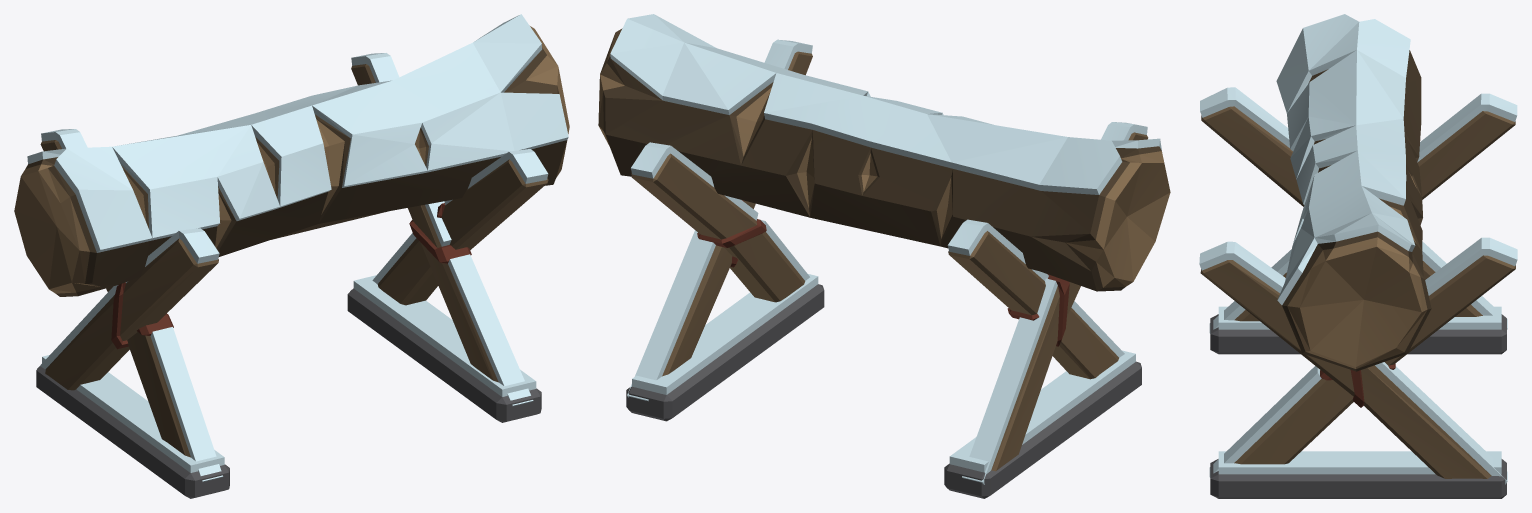
Rendered from Tronco.glb.
The picture shows the model from 3 angles, left to right: view 1: azimuth 30°, elevation 25°; view 2: azimuth 150°, elevation 25°; view 3: azimuth 270°, elevation 25°; orthographic projection. The views are drawn at different scales.
Parts seen in each view (by area): view 1: SM_Prop_Log_01_Snow; view 2: SM_Prop_Log_01_Snow; view 3: SM_Prop_Log_01_Snow.
Part boxes in pixels (box(x1,y1,x2,y2)): SM_Prop_Log_01_Snow: box(14, 14, 569, 498); SM_Prop_Log_01_Snow: box(598, 14, 1170, 498); SM_Prop_Log_01_Snow: box(1199, 14, 1517, 498).
Size of the model in its own units: 2.13 by 1.29 by 1.22.
Materials: 1 (1 with a texture image).
